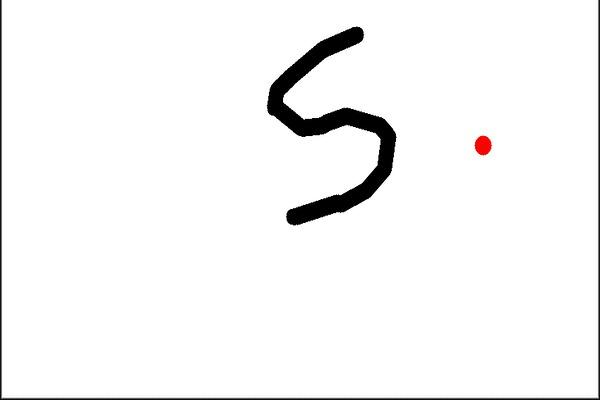S: (263, 22, 401, 229)
